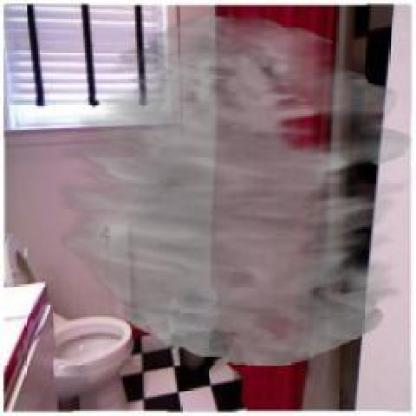Smoke: (57, 15, 413, 366)
